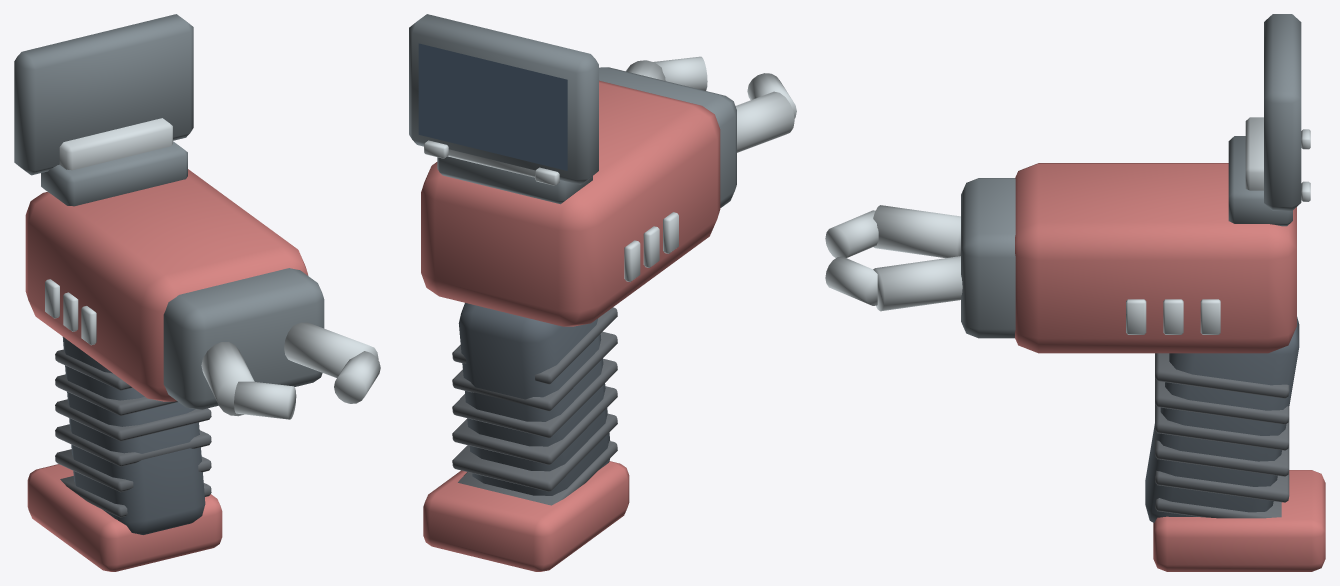
File: dismantler_enhanced.glb
3 renders of one model, left to right at view 1: azimuth 30°, elevation 25°; view 2: azimuth 150°, elevation 25°; view 3: azimuth 270°, elevation 25°, orthographic. The views are drawn at different scales.
Visible parts, largest first — view 1: ToolBody_darkred, LiveViewSurfaceFrame_frame, NoseHousing_frame, Grip_black, Battery_darkred, GripRib_rubber, Jaw_steel, DisplayMount_frame, JawTip_steel, DisplayBracket_steel, HousingVent_steel; view 2: ToolBody_darkred, Grip_black, LiveViewSurface_glass, Battery_darkred, GripRib_rubber, LiveViewSurfaceFrame_frame, NoseHousing_frame, Jaw_steel, DisplayMount_frame, JawTip_steel, HousingVent_steel, DisplayControls_steel (+1 smaller); view 3: ToolBody_darkred, Grip_black, Battery_darkred, GripRib_rubber, NoseHousing_frame, Jaw_steel, LiveViewSurfaceFrame_frame, JawTip_steel, DisplayMount_frame, HousingVent_steel, DisplayBracket_steel.
Boxes of the visible parts, bbox=[...] form: ToolBody_darkred: bbox=[25, 169, 308, 401]; LiveViewSurfaceFrame_frame: bbox=[14, 14, 193, 175]; NoseHousing_frame: bbox=[163, 268, 324, 409]; Grip_black: bbox=[62, 337, 205, 534]; Battery_darkred: bbox=[27, 464, 222, 571]; GripRib_rubber: bbox=[55, 349, 211, 517]; Jaw_steel: bbox=[201, 322, 378, 416]; DisplayMount_frame: bbox=[41, 141, 187, 206]; JawTip_steel: bbox=[234, 351, 380, 419]; DisplayBracket_steel: bbox=[59, 118, 172, 170]; HousingVent_steel: bbox=[45, 279, 96, 345]; ToolBody_darkred: bbox=[421, 80, 720, 326]; Grip_black: bbox=[458, 303, 610, 495]; LiveViewSurface_glass: bbox=[418, 43, 567, 170]; Battery_darkred: bbox=[423, 461, 629, 571]; GripRib_rubber: bbox=[452, 307, 617, 505]; LiveViewSurfaceFrame_frame: bbox=[409, 14, 598, 184]; NoseHousing_frame: bbox=[599, 67, 736, 207]; Jaw_steel: bbox=[626, 60, 794, 152]; DisplayMount_frame: bbox=[437, 156, 592, 204]; JawTip_steel: bbox=[653, 56, 796, 118]; HousingVent_steel: bbox=[624, 212, 678, 281]; DisplayControls_steel: bbox=[424, 140, 559, 185]; ToolBody_darkred: bbox=[1015, 163, 1296, 353]; Grip_black: bbox=[1145, 317, 1299, 522]; Battery_darkred: bbox=[1153, 470, 1325, 571]; GripRib_rubber: bbox=[1155, 353, 1289, 518]; NoseHousing_frame: bbox=[961, 178, 1015, 338]; Jaw_steel: bbox=[873, 205, 962, 311]; LiveViewSurfaceFrame_frame: bbox=[1264, 14, 1301, 210]; JawTip_steel: bbox=[825, 210, 878, 305]; DisplayMount_frame: bbox=[1228, 136, 1292, 226]; HousingVent_steel: bbox=[1126, 299, 1220, 334]; DisplayBracket_steel: bbox=[1245, 117, 1263, 190].
Size of the model in its own units: 0.371 by 0.95 by 0.8712.
